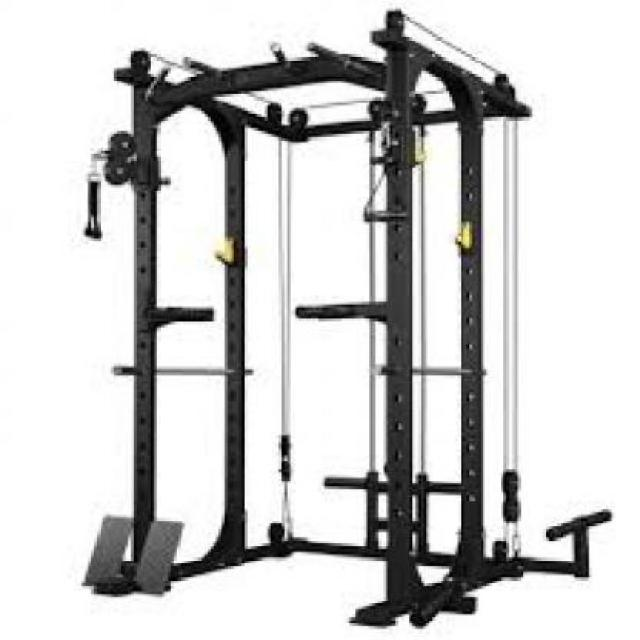smith machine: (85, 9, 612, 629)
